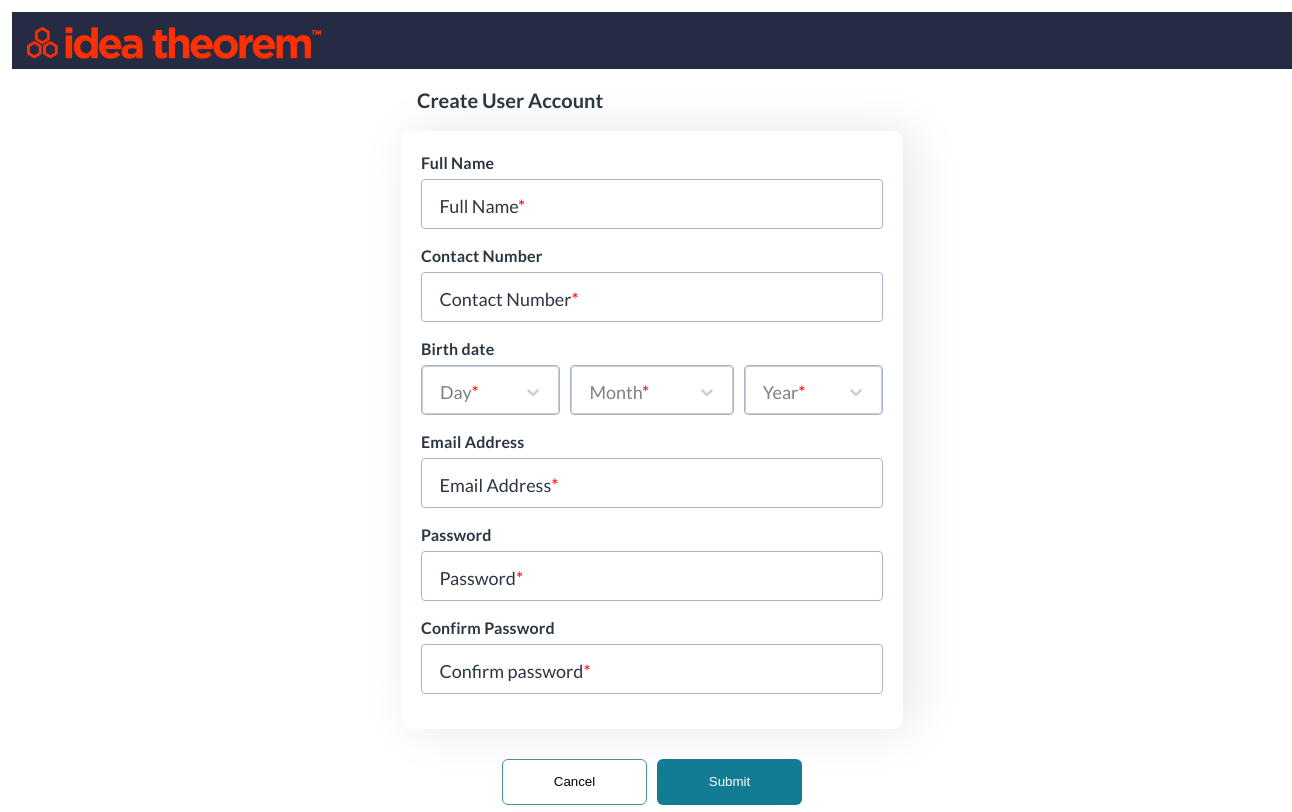
Test: render register › submit button without entering any value
What coordinates should you click on to do the following:
click the button "Submit"
I would click on:
 (730, 782)
Its box is x1=657 y1=759 x2=802 y2=805.
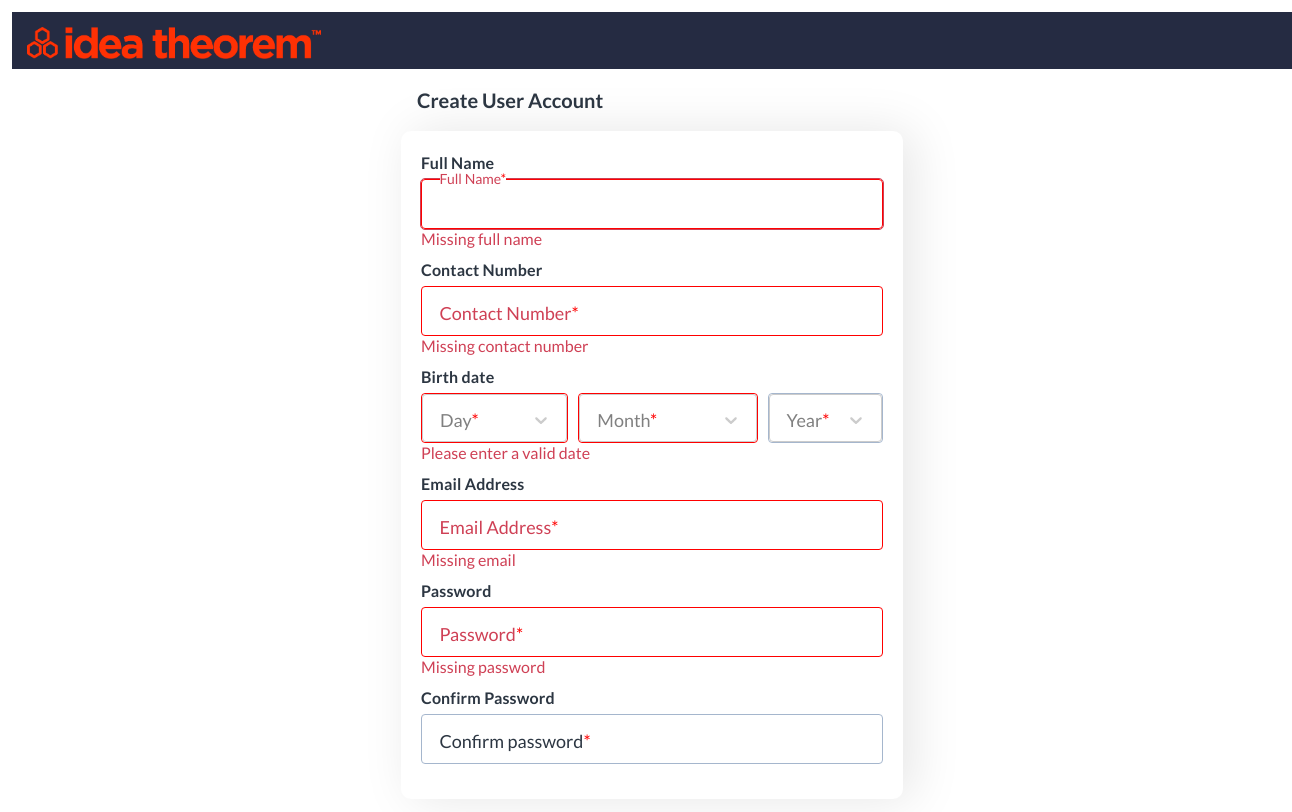
expect the text "Missing full name" is shown: met, box x1=421 y1=229 x2=542 y2=248
expect the text "Missing contact number" is shown: met, box x1=421 y1=336 x2=588 y2=355
expect the text "Please enter a valid date" is shown: met, box x1=421 y1=443 x2=590 y2=462
